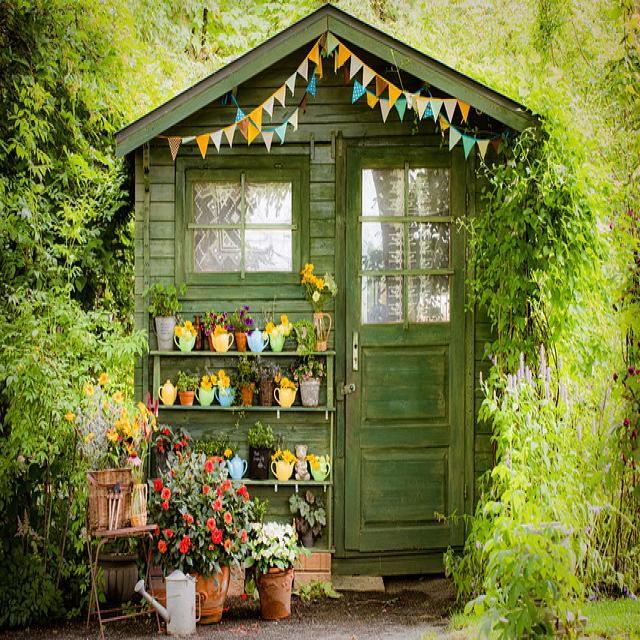building: (110, 6, 558, 604)
